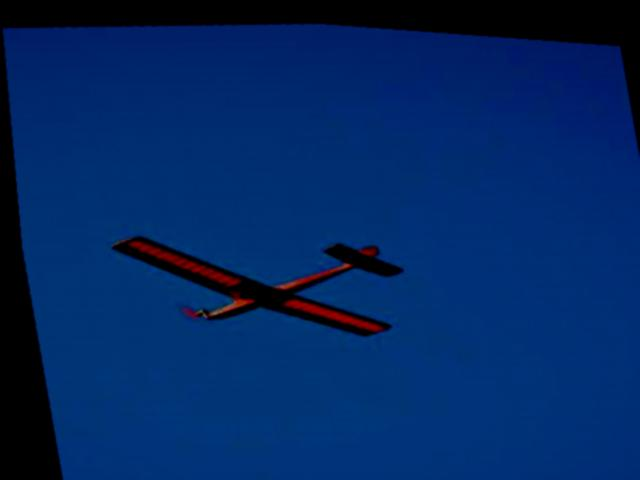iha: (90, 197, 417, 363)
